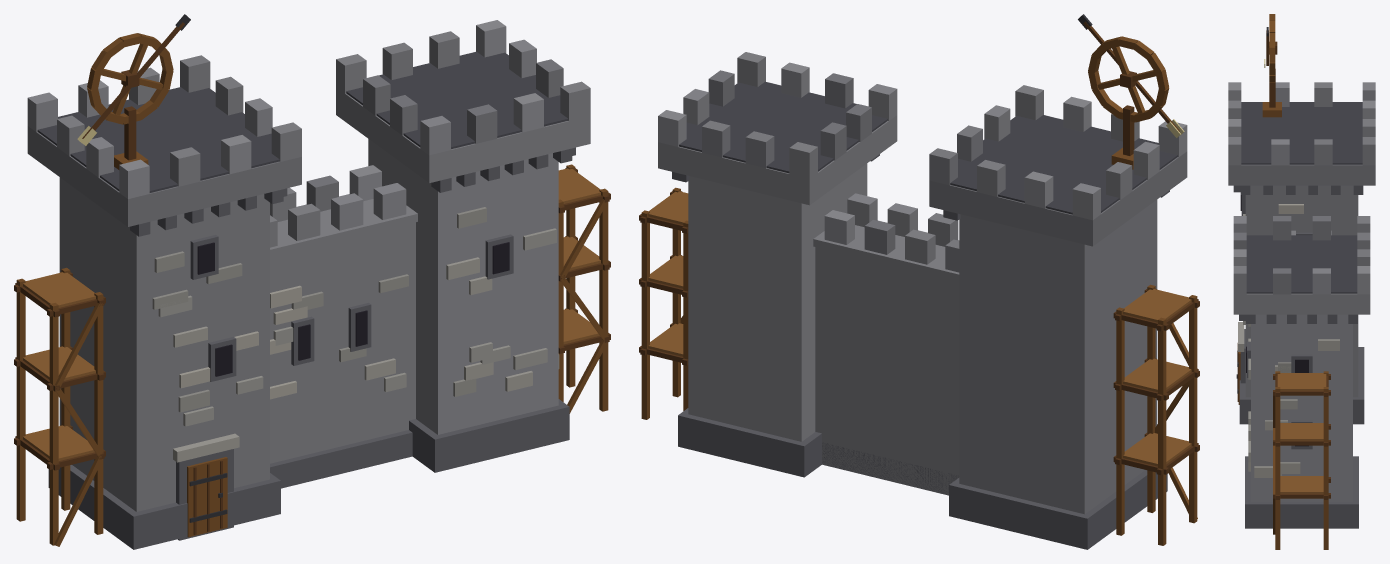
Rendered from stage2.glb.
The picture shows the model from 3 angles, left to right: view 1: azimuth 30°, elevation 25°; view 2: azimuth 150°, elevation 25°; view 3: azimuth 270°, elevation 25°; orthographic projection. The views are drawn at different scales.
Visible parts, largest first — view 1: body, ballista; view 2: body, ballista; view 3: body, ballista.
Boxes of the visible parts, x1,y1,x2,y2 form: body: (14, 20, 610, 549); ballista: (77, 14, 190, 169); body: (639, 52, 1199, 549); ballista: (1078, 14, 1184, 169); body: (1228, 82, 1375, 549); ballista: (1262, 14, 1281, 117).
Size of the model in its own units: 8.83 by 7.62 by 2.74.
